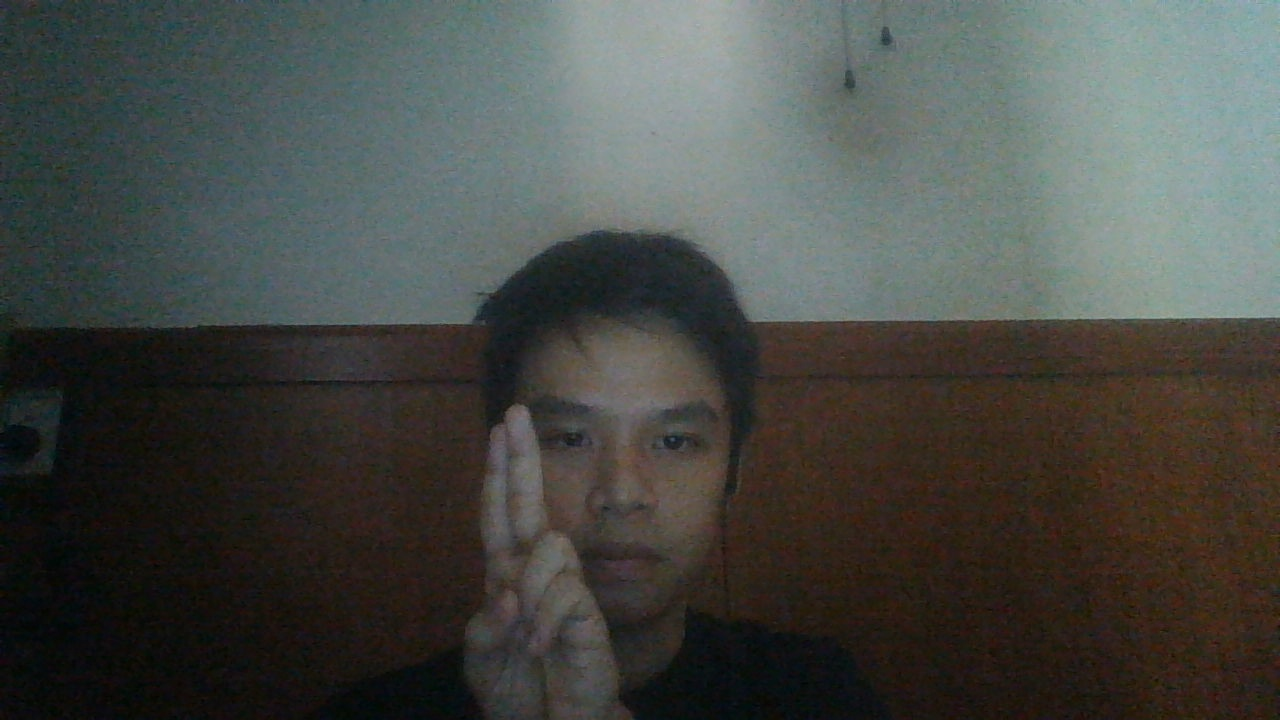write2: (460, 408, 622, 720)
